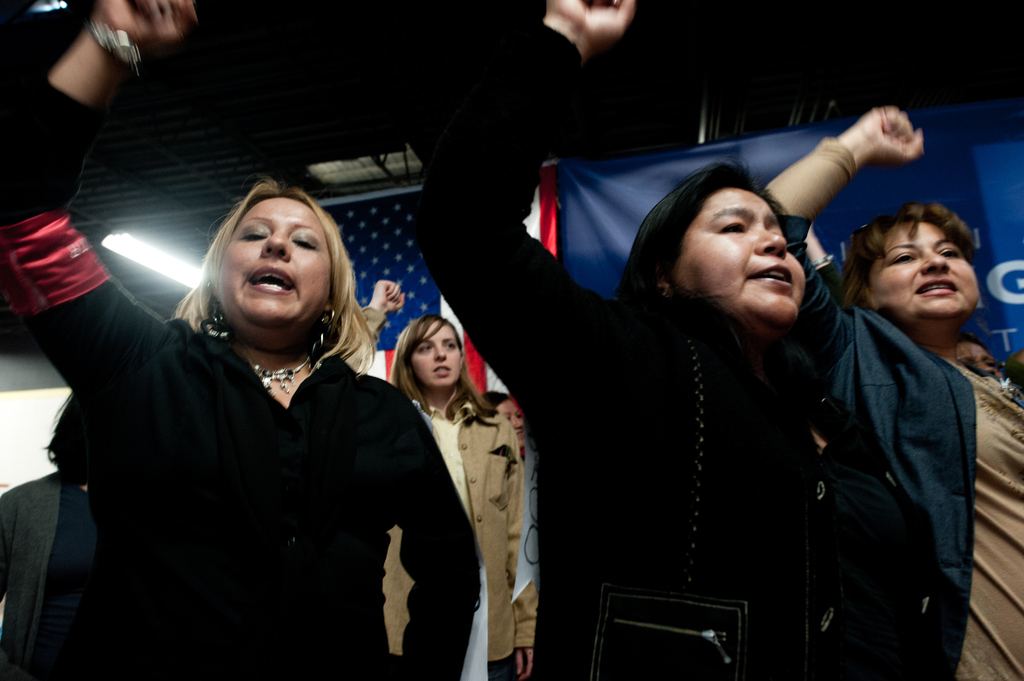Human-face: (212, 196, 332, 334), (676, 187, 803, 317), (869, 224, 980, 318), (410, 328, 461, 383), (493, 401, 521, 428)
